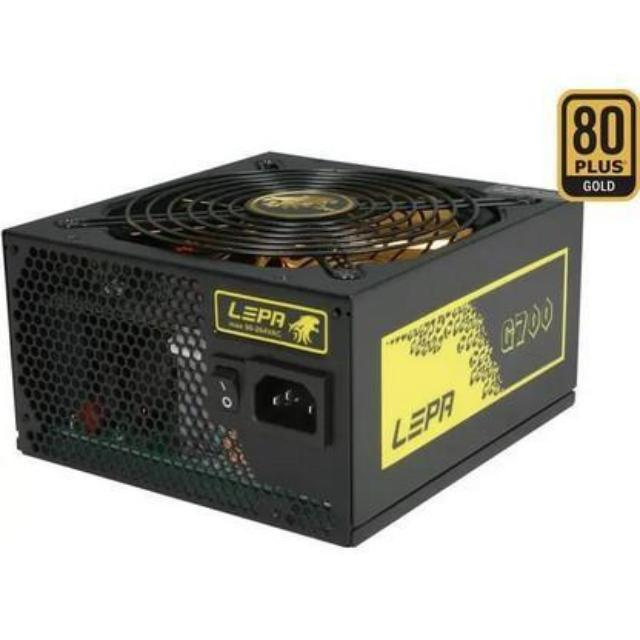PSU: (0, 134, 605, 548)
